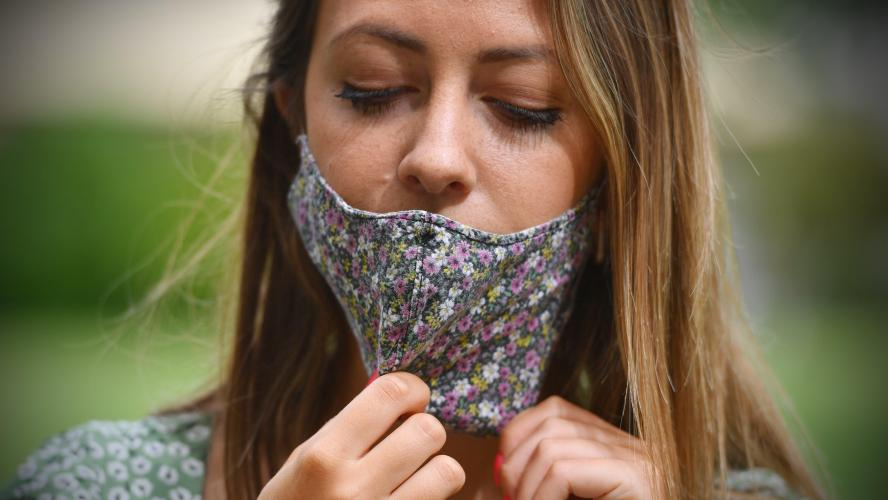with_incorrect_mask: (283, 10, 616, 341)
